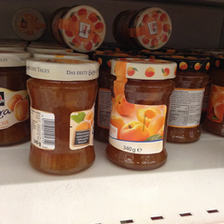jam: (25, 56, 101, 176), (106, 58, 178, 172), (167, 56, 210, 144), (111, 8, 172, 49), (50, 6, 105, 51)
